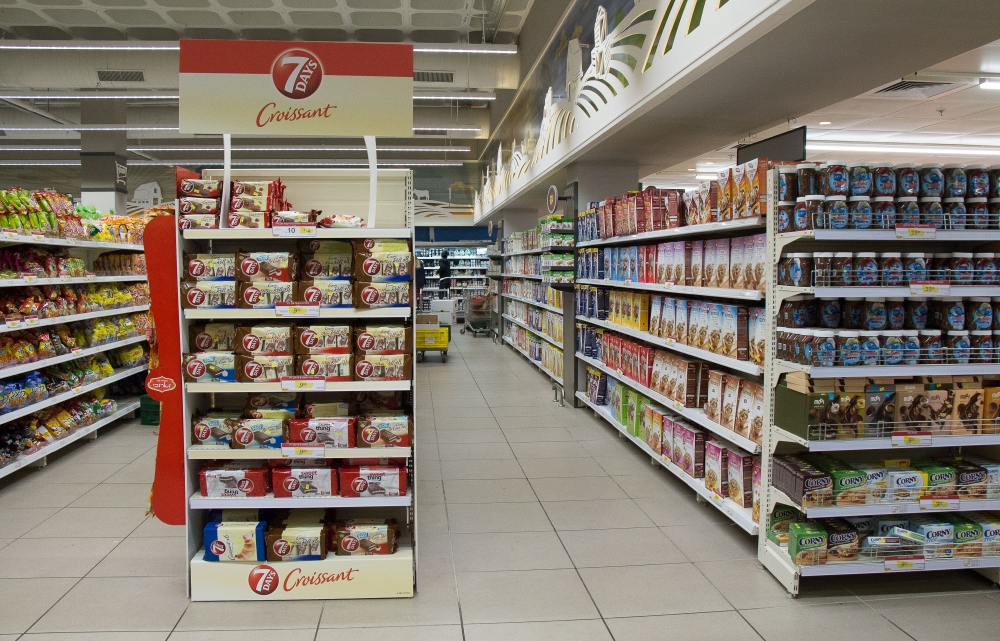7days: (204, 528, 263, 561), (340, 469, 408, 497), (287, 420, 354, 447), (233, 326, 294, 355), (354, 419, 412, 449), (275, 470, 337, 498), (293, 325, 352, 354), (199, 471, 264, 497), (355, 252, 412, 280), (182, 353, 237, 382), (181, 281, 240, 308), (232, 419, 286, 448), (238, 253, 293, 281), (296, 281, 353, 308), (354, 327, 411, 354), (184, 253, 238, 281), (267, 533, 323, 560), (336, 529, 392, 556), (238, 281, 296, 307), (293, 356, 355, 380), (355, 356, 409, 383), (354, 283, 412, 308), (301, 255, 356, 281), (192, 418, 234, 447), (190, 324, 234, 351), (241, 357, 293, 379), (232, 179, 280, 197), (181, 179, 220, 196), (228, 213, 271, 228), (179, 197, 219, 213), (229, 198, 272, 212), (179, 214, 219, 229)
